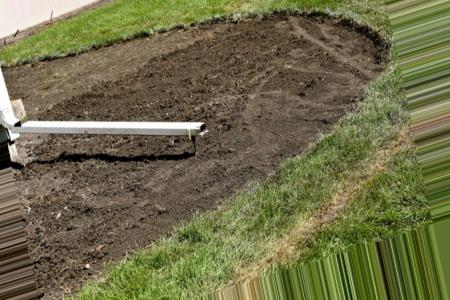patch: (208, 27, 353, 102), (36, 160, 166, 224), (45, 65, 205, 115), (218, 112, 320, 141), (191, 154, 248, 199)
